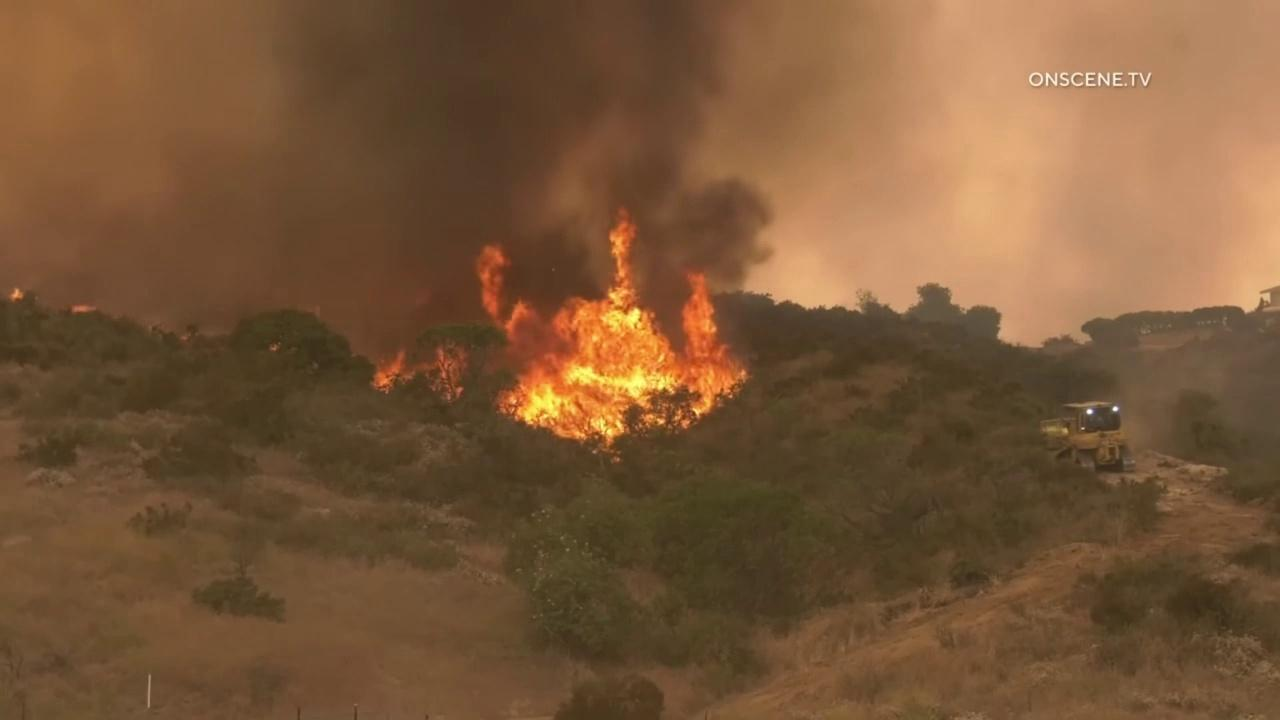fire: (473, 205, 757, 464), (369, 336, 466, 405), (69, 304, 97, 315), (8, 287, 25, 303), (267, 340, 283, 353), (178, 334, 190, 343)
smoke: (0, 0, 1280, 358)
